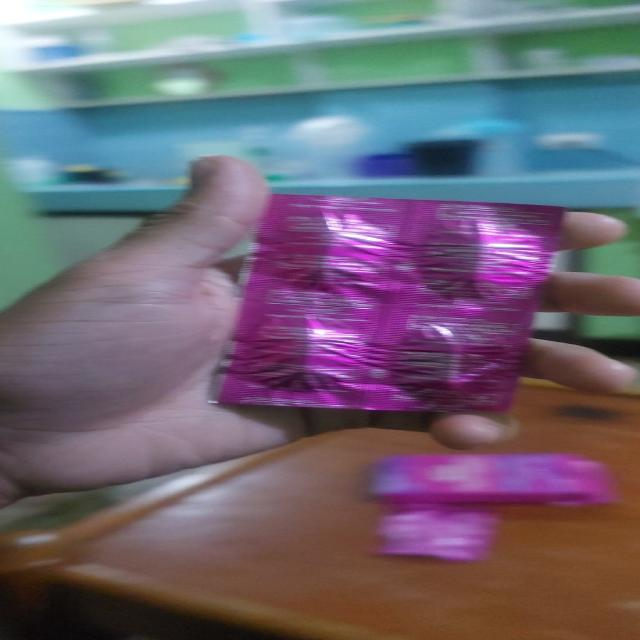Cacat: (217, 195, 559, 409)
